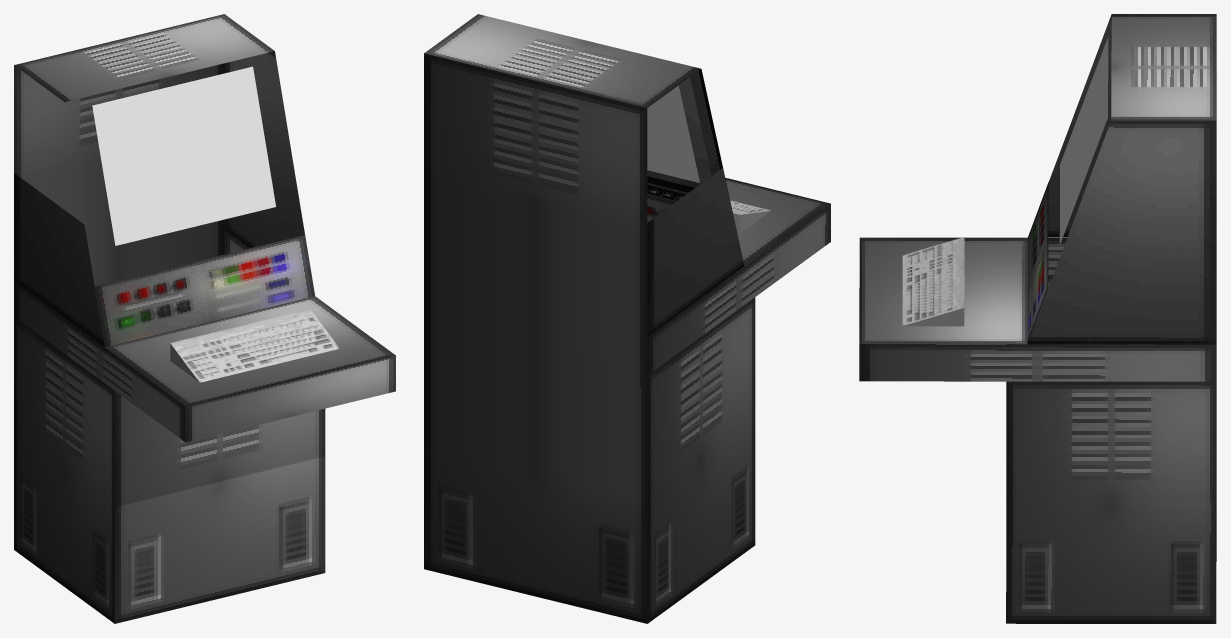
Rendered from primary_205.glb.
3 renders of one model, left to right at view 1: azimuth 30°, elevation 25°; view 2: azimuth 150°, elevation 25°; view 3: azimuth 270°, elevation 25°, orthographic. The views are drawn at different scales.
Parts seen in each view (by area): view 1: Object; view 2: Object; view 3: Object.
Part boxes in pixels (bbox=[...]): Object: bbox=[14, 14, 395, 623]; Object: bbox=[424, 14, 830, 623]; Object: bbox=[859, 14, 1216, 623].
Size of the model in its own units: 0.8103 by 1.78 by 1.15.
20 materials, 20 textured.
